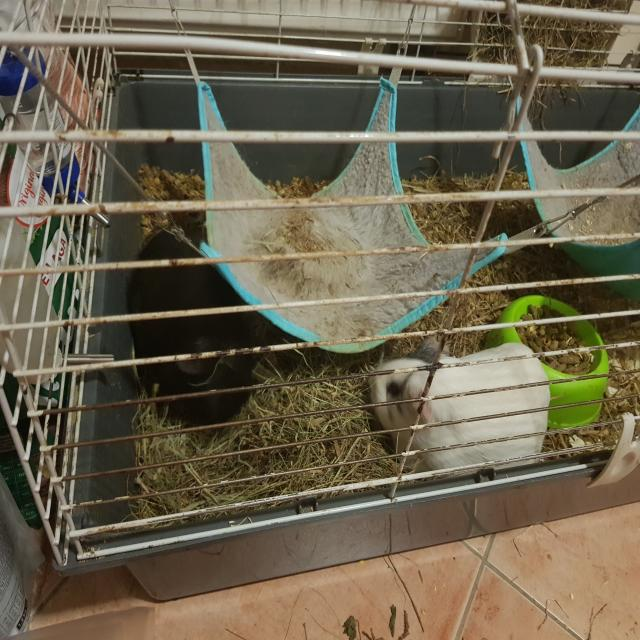guinea pig: (124, 227, 257, 428), (363, 334, 551, 476)
